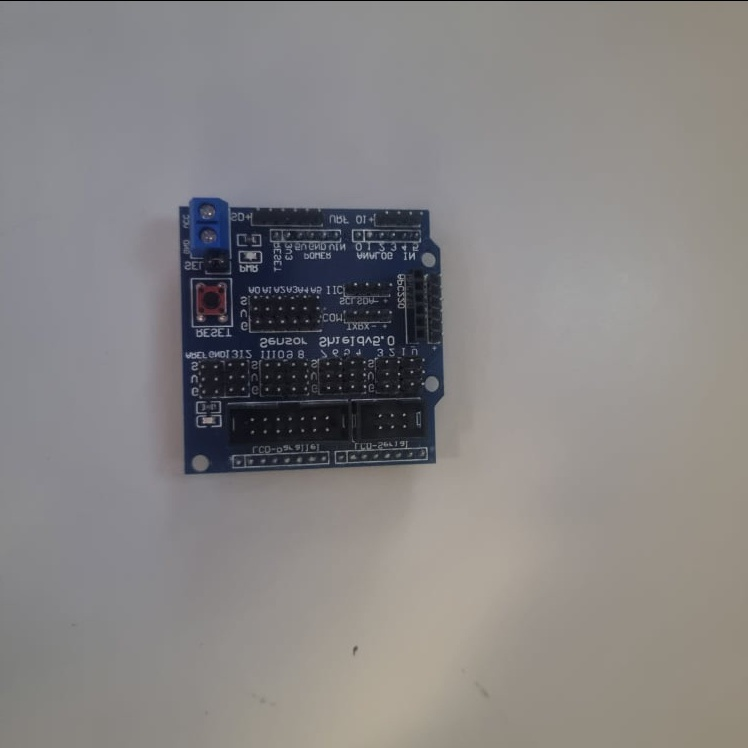5V EXPANSION: (176, 194, 443, 469)
